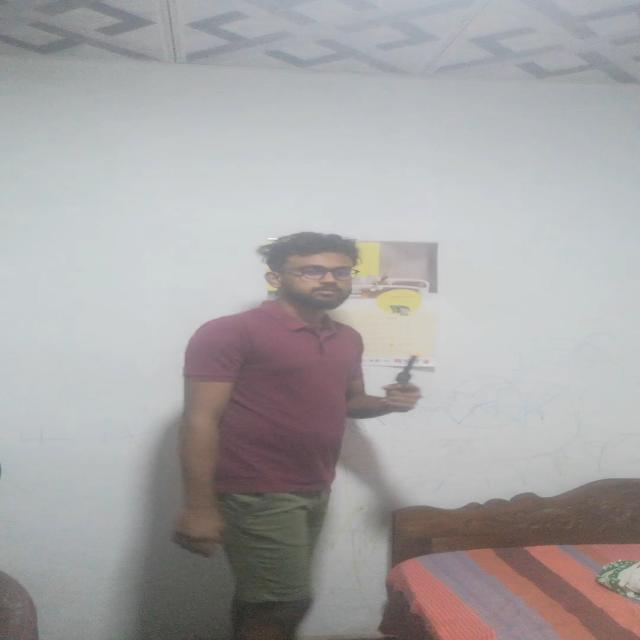Gun_Holder: (379, 346, 442, 416)
Person: (173, 221, 428, 640)
